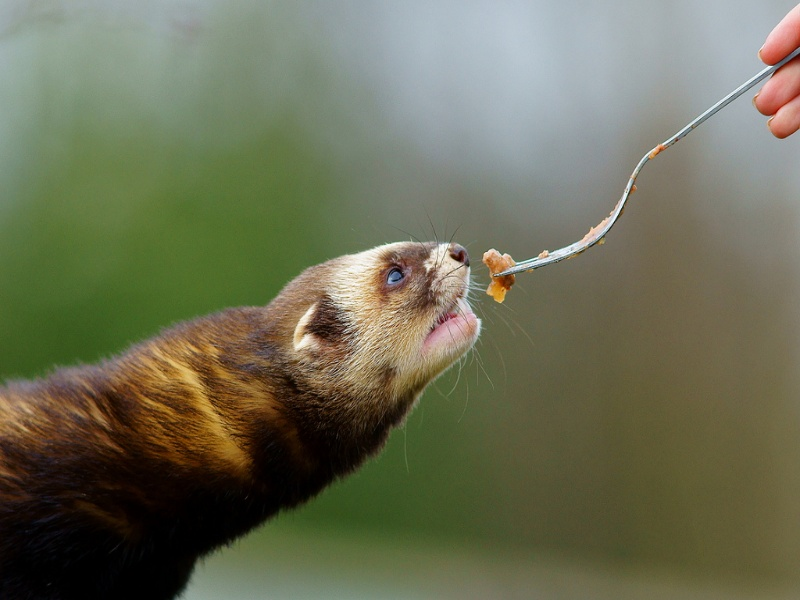minkish: (5, 239, 482, 600)
